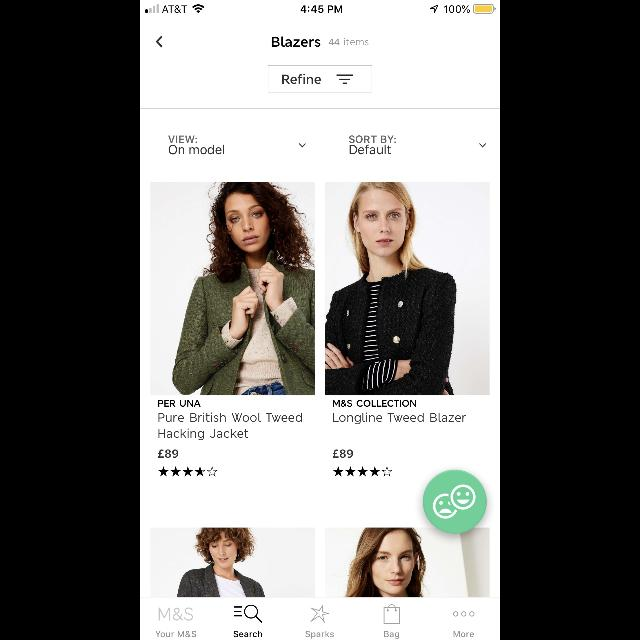icon: (158, 466, 218, 476), (333, 466, 392, 476), (234, 605, 262, 623), (309, 604, 329, 624), (384, 604, 400, 624), (337, 74, 353, 84), (453, 612, 475, 616), (156, 36, 162, 48), (478, 142, 486, 148), (298, 142, 306, 148)
image: (151, 182, 315, 396), (325, 182, 489, 396), (151, 528, 315, 596), (325, 528, 489, 596), (423, 470, 487, 534)
text: (334, 412, 466, 424), (158, 412, 302, 422), (158, 428, 248, 440), (332, 399, 416, 406), (169, 145, 225, 155), (272, 37, 320, 47), (348, 145, 392, 155), (159, 608, 193, 620), (282, 74, 322, 84), (348, 135, 396, 143), (329, 38, 369, 46), (158, 399, 202, 406), (156, 631, 197, 637), (168, 135, 198, 143), (306, 630, 334, 638), (333, 449, 353, 458), (234, 631, 262, 637), (158, 449, 178, 457), (384, 631, 400, 639), (454, 631, 474, 637)
textbutton: (268, 65, 372, 93)
uppertaskbar: (140, 0, 500, 14)
